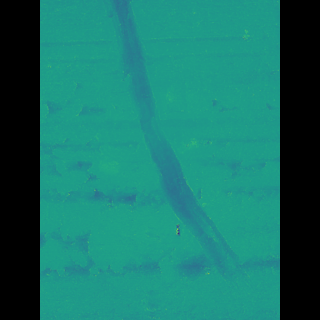Loch: (111, 0, 237, 307)
